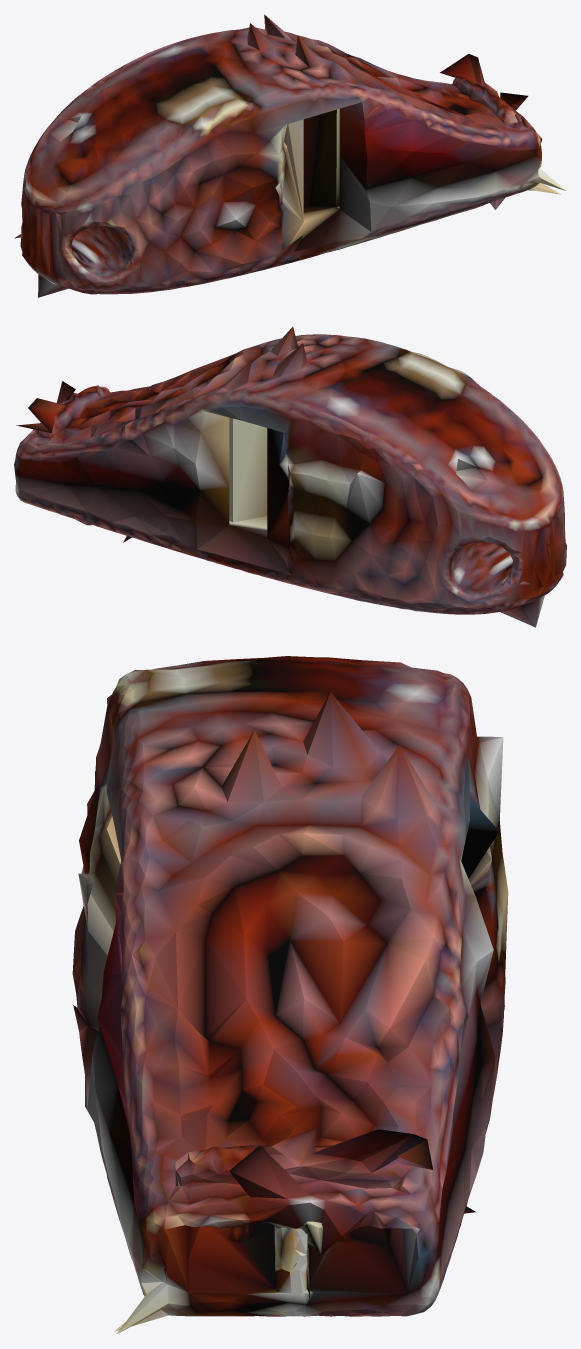
The model's file is whistle_decemeted_final1700.obj.
3 renders of one model, top to bottom at view 1: azimuth 30°, elevation 25°; view 2: azimuth 150°, elevation 25°; view 3: azimuth 270°, elevation 25°, orthographic. The views are drawn at different scales.
Size of the model in its own units: 1.92 by 0.8215 by 0.7396.
